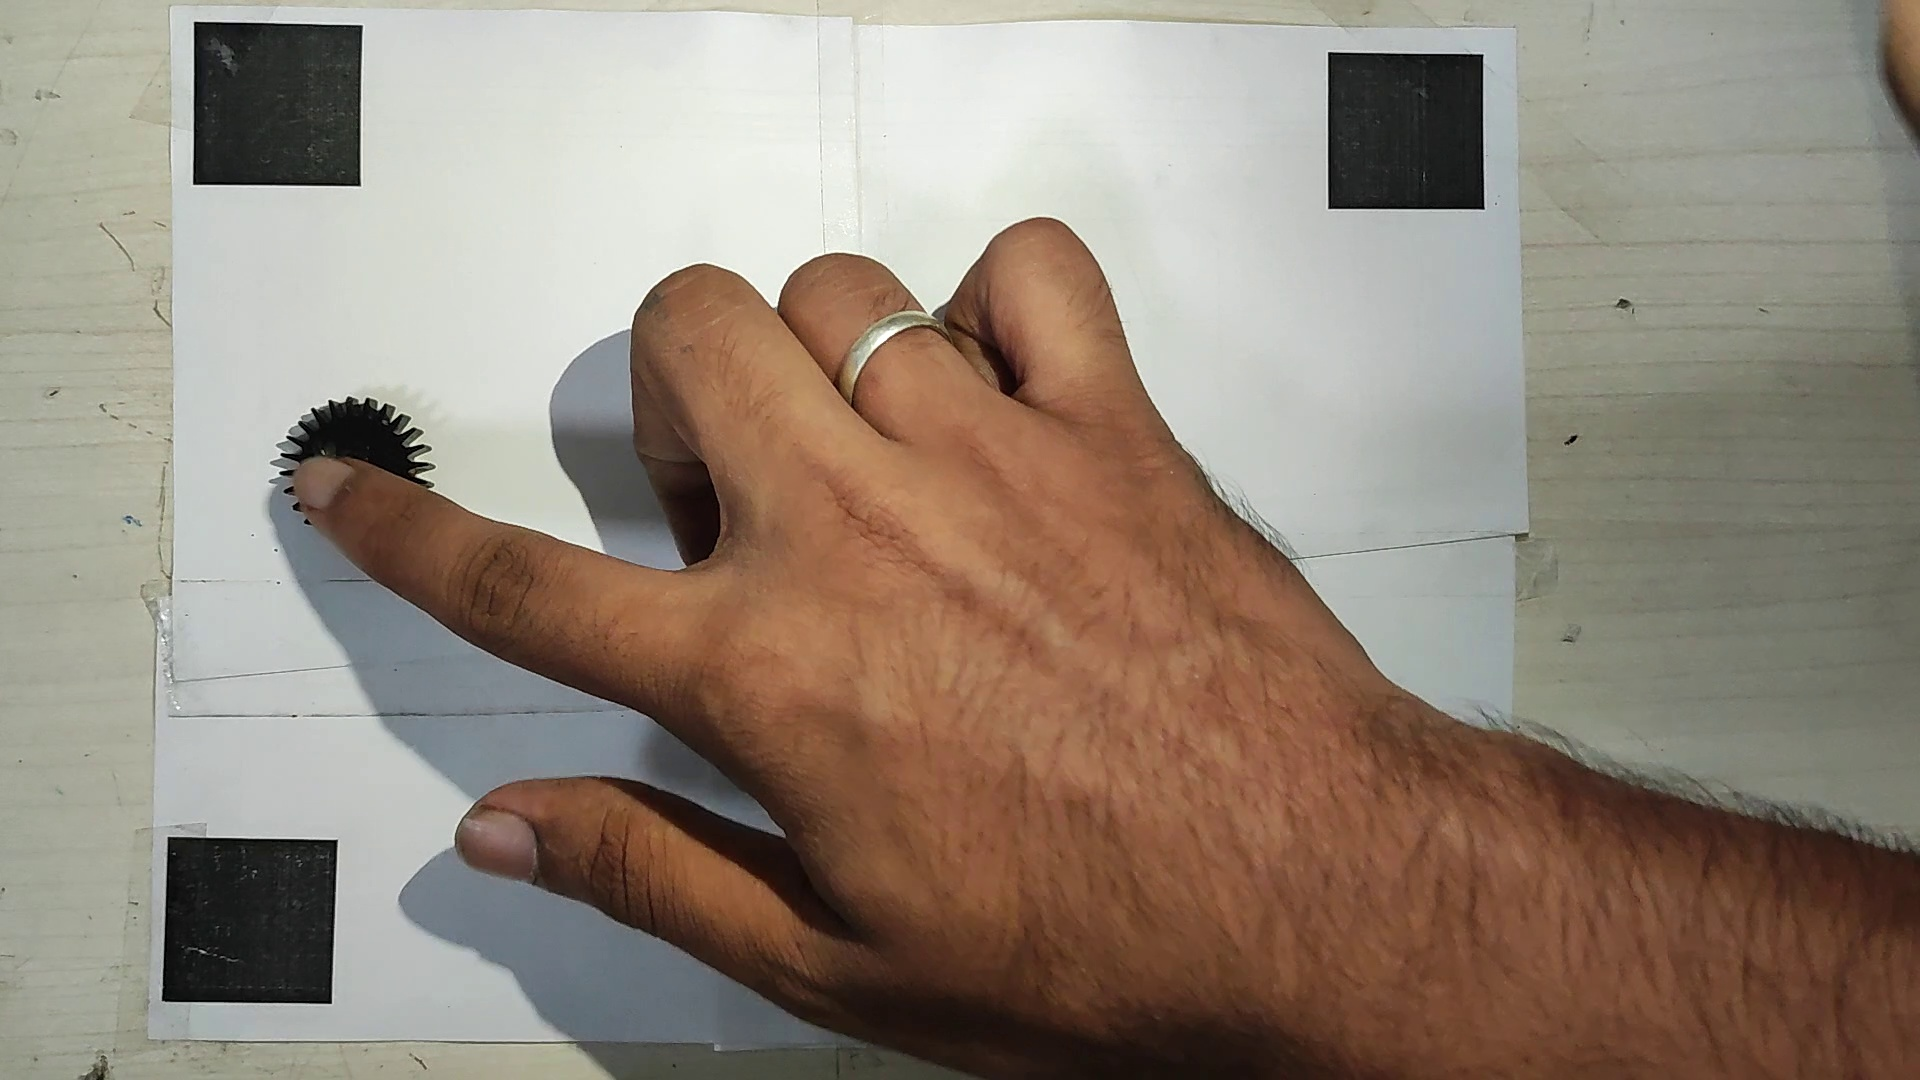Gear: (268, 397, 444, 545)
